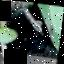Purslane: (0, 0, 64, 57)
